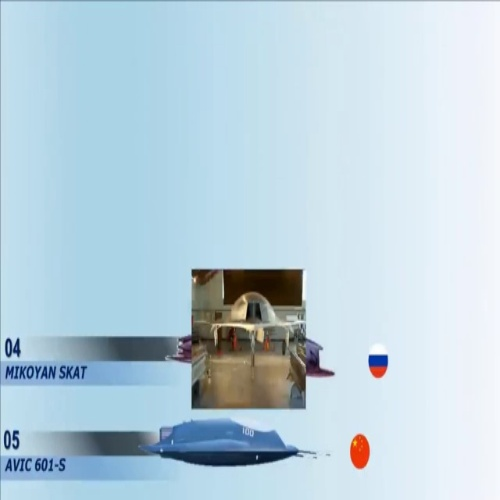uav: (134, 411, 329, 470), (192, 287, 301, 364)
